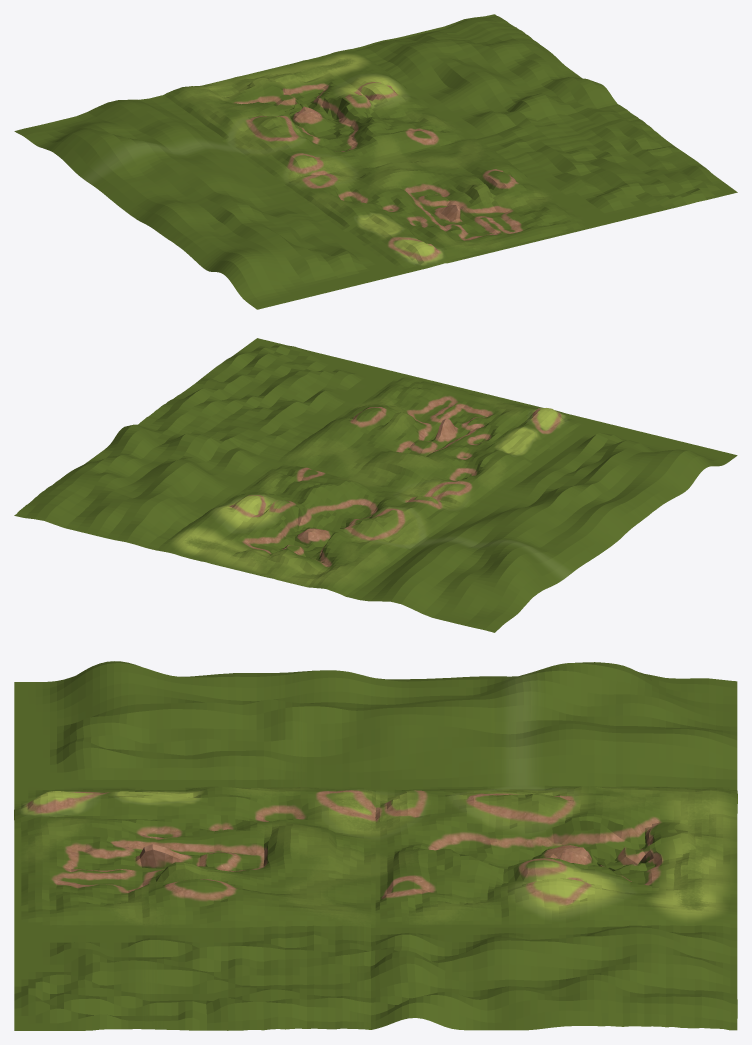
The model's file is green environment01.fbx.
The picture shows the model from 3 angles, top to bottom: view 1: azimuth 30°, elevation 25°; view 2: azimuth 150°, elevation 25°; view 3: azimuth 270°, elevation 25°; orthographic projection. The views are drawn at different scales.
Parts seen in each view (by area): view 1: Plane.003; view 2: Plane.003; view 3: Plane.003.
Part boxes in pixels (x1,y1,x2,y2): Plane.003: (14,14,737,309); Plane.003: (14,338,737,632); Plane.003: (14,661,737,1030).
Bounding box in the file's own units: 806059 × 61862 × 706389.
Materials: 1 (1 with a texture image).
